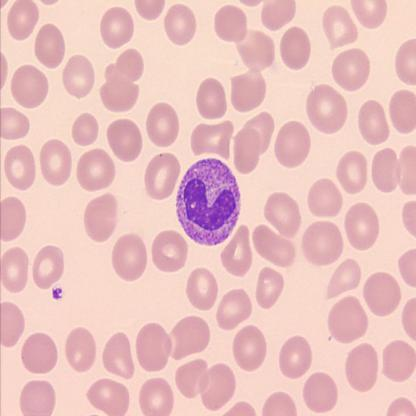Band Neutrophil: (172, 154, 244, 247)
